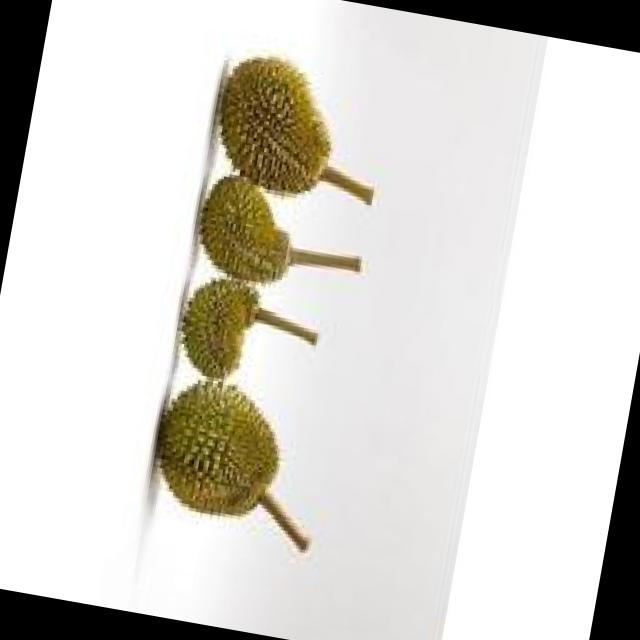fruit: (123, 350, 308, 544), (190, 34, 364, 216), (174, 158, 314, 302), (157, 258, 279, 397)
